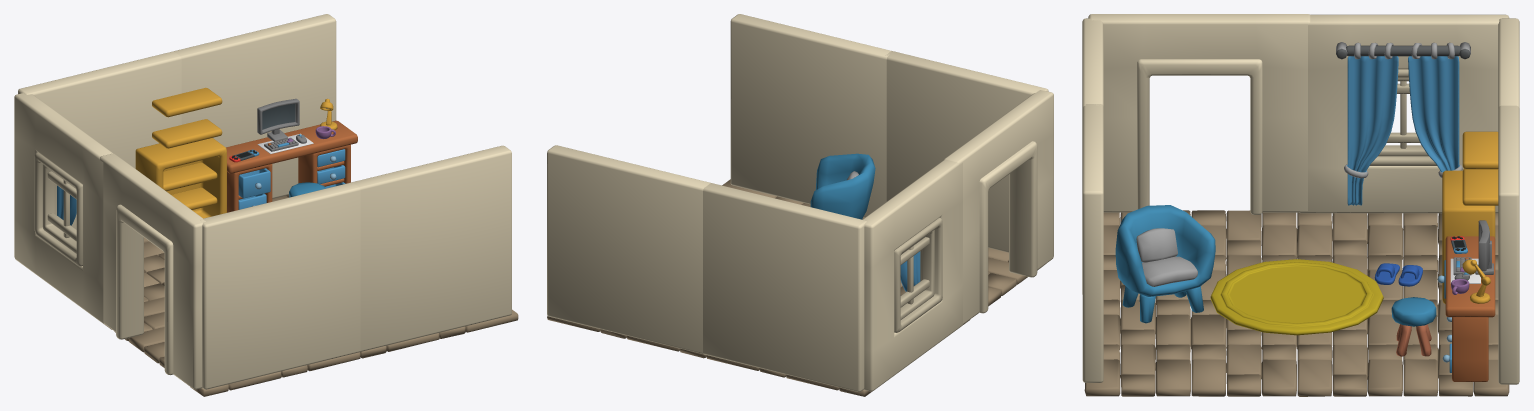
The model's file is room_walls.fbx.
The picture shows the model from 3 angles, left to right: view 1: azimuth 30°, elevation 25°; view 2: azimuth 150°, elevation 25°; view 3: azimuth 270°, elevation 25°; orthographic projection. The views are drawn at different scales.
Visible parts, largest first — view 1: wall.005, wall.006, wall_door.001, wall.004, wall_window.001, wall.001, floor.001, cabinet_01.001, desk.001, window.001, cabinet_01.002, computer_monitor_01 (+1 smaller); view 2: wall.001, wall.004, wall.006, wall_door.001, wall_window.001, wall.005, window.001, chair.001, floor.001, curtain.001; view 3: floor.001, wall_door.001, wall_window.001, curtain.001, rug.001, chair.001, wall.004, wall.006, desk.001, cabinet_01.002, cabinet_01.001, wall.005 (+6 smaller).
Boxes of the visible parts, x1,y1,x2,y2 form: wall.005: (200,182,360,389); wall.006: (350,145,511,351); wall_door.001: (100,153,205,389); wall.004: (174,14,336,198); wall_window.001: (14,93,112,324); wall.001: (18,51,181,229); floor.001: (104,195,518,396); cabinet_01.001: (135,138,226,218); desk.001: (226,120,357,212); window.001: (34,152,82,266); cabinet_01.002: (152,87,222,148); computer_monitor_01: (257,98,299,141); wall.001: (703,183,866,391); wall.004: (547,145,710,353); wall.006: (730,14,891,217); wall_door.001: (944,90,1053,324); wall_window.001: (862,160,962,391); wall.005: (885,51,1048,252); window.001: (894,217,942,332); chair.001: (810,153,875,219); floor.001: (547,179,1042,396); curtain.001: (900,251,920,291); floor.001: (1084,210,1509,396); wall_door.001: (1088,14,1310,214); wall_window.001: (1299,14,1509,213); curtain.001: (1336,42,1470,205); rug.001: (1210,259,1383,335); chair.001: (1115,205,1215,323); wall.004: (1498,105,1519,384); wall.006: (1082,104,1103,382); desk.001: (1445,236,1495,381); cabinet_01.002: (1462,131,1498,205); cabinet_01.001: (1442,170,1495,303); wall.005: (1082,18,1103,294).
Bounding box in the file's own units: 638 × 322 × 633.
